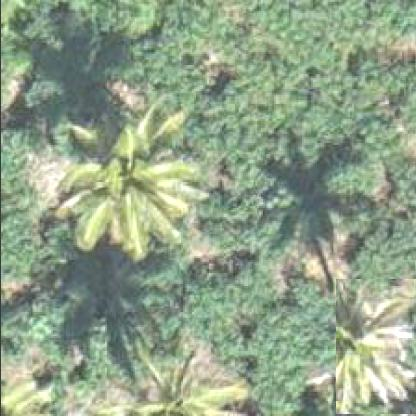coconut tree: (52, 96, 209, 266), (86, 332, 254, 414), (334, 278, 415, 414)
